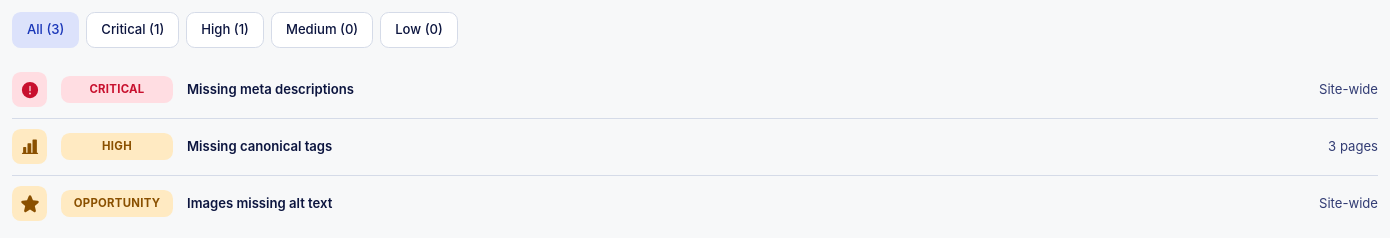
AuditFindings › filters to one severity and says so when there are none
Click the button "High (1)": (225, 30) [186,12,264,48]
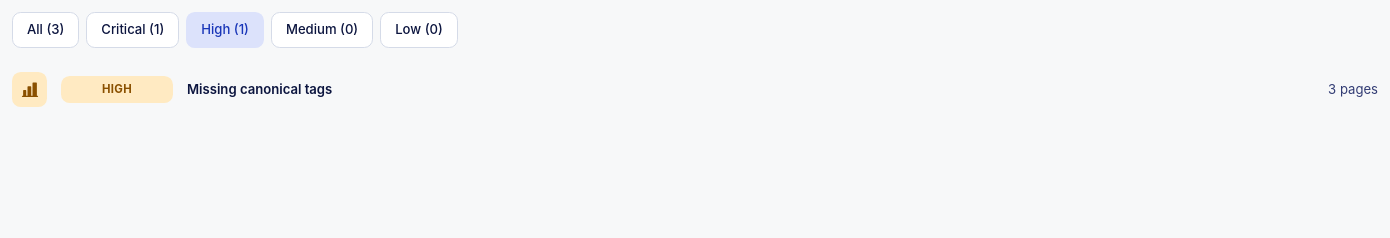
Expected: the text "Missing canonical tags" is shown, [187,81,332,97]
Expected: the text "Missing meta descriptions" is gone
Click the button "Low (0)": (419, 30) [380,12,458,48]
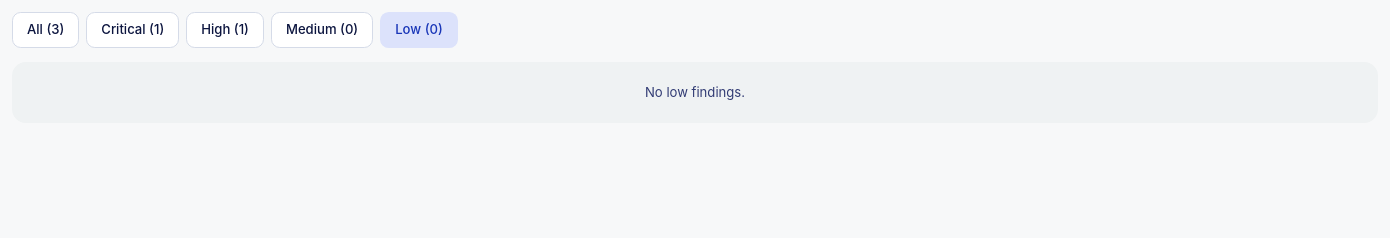
Expected: the text "No low findings." is shown, [12,62,1378,123]
